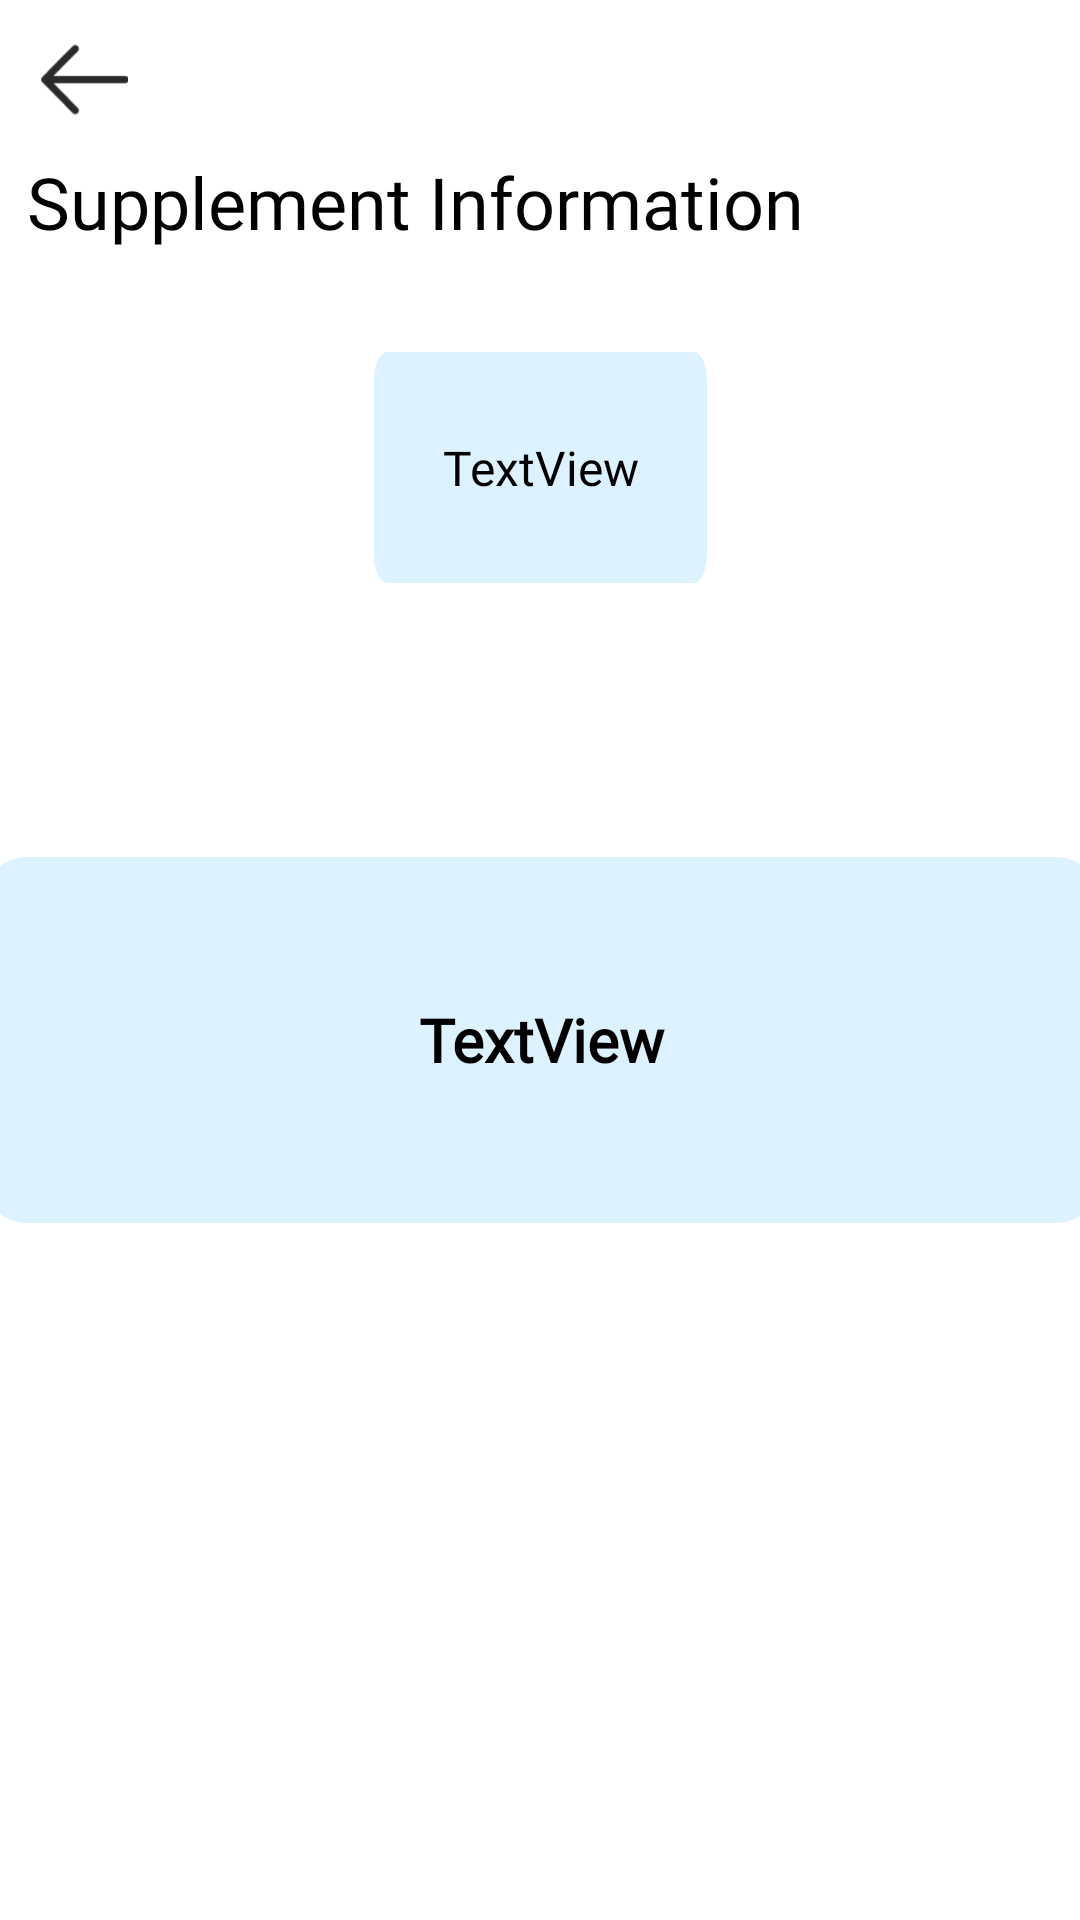

Where to tap for icons on this 1080×1920 app screen, as (x,y):
arrow: (84,79)
